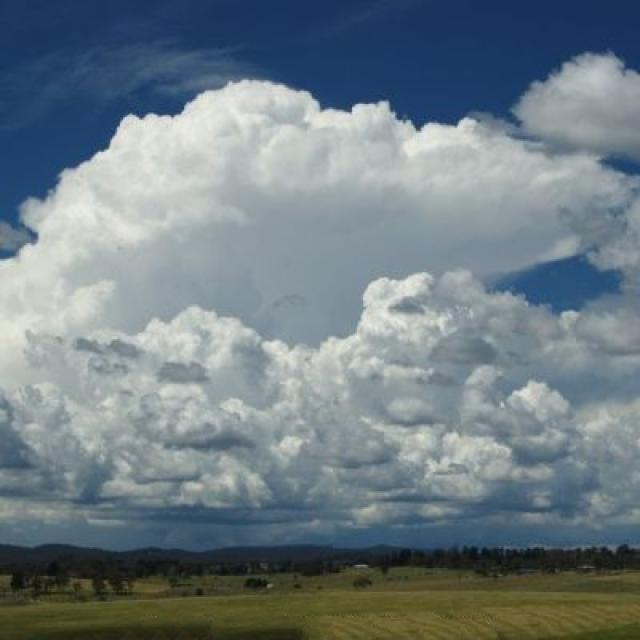Cu: (1, 62, 640, 465)
